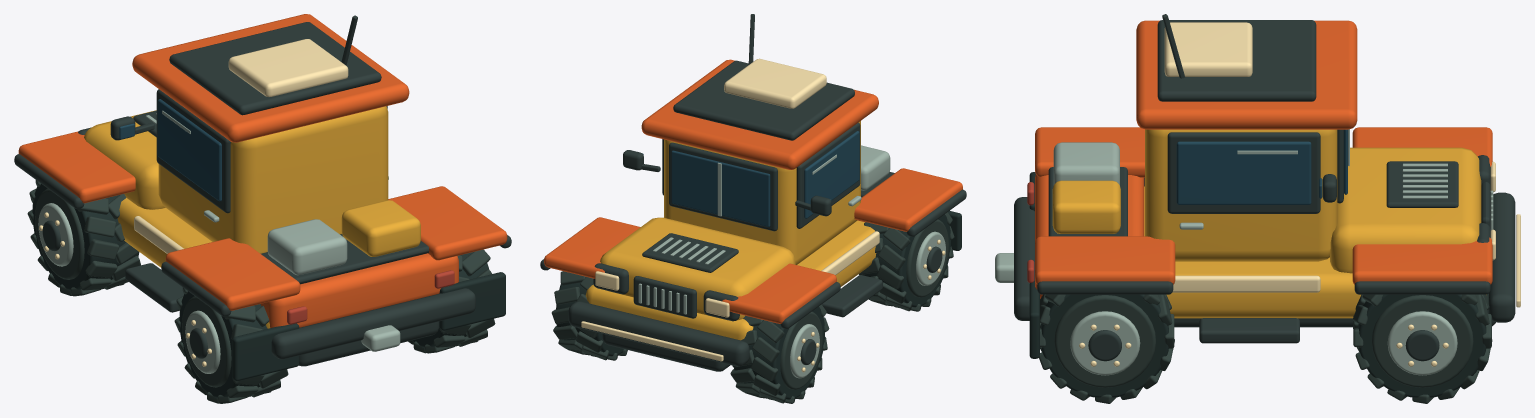
The model's file is SurveyRover.fbx.
3 renders of one model, left to right at view 1: azimuth 30°, elevation 25°; view 2: azimuth 150°, elevation 25°; view 3: azimuth 270°, elevation 25°, orthographic. The views are drawn at different scales.
Visible parts, largest first — view 1: Cab shell, Roof safety cap, Cab roof rack, Rear utility bed, Mudguard, Rear bumper, Mudguard.002, Mudguard.001, Survey radio housing, Side window, Safety case, Green survey box (+24 smaller); view 2: Short bonnet, Roof safety cap, Cab roof rack, Cab shell, Front windshield, Rocker body, Mudguard, Front bumper, Mudguard.001, Survey radio housing, Mudguard.003, Side window (+26 smaller); view 3: Cab shell, Roof safety cap, Short bonnet, Side window.001, Cab roof rack, Rocker body, Mudguard.002, Mudguard.003, Survey radio housing, Side glass gasket.001, Sidewall.003, Sidewall.002 (+24 smaller).
Part boxes in pixels (x1,y1,x2,y2): Cab shell: (158, 106, 388, 253); Roof safety cap: (132, 14, 409, 142); Cab roof rack: (169, 22, 381, 115); Rear utility bed: (260, 253, 458, 327); Mudguard: (165, 238, 300, 310); Rear bumper: (271, 288, 475, 359); Mudguard.002: (388, 186, 507, 260); Mudguard.001: (18, 131, 135, 203); Survey radio housing: (228, 39, 348, 96); Side window: (157, 99, 221, 201); Safety case: (341, 200, 420, 256); Green survey box: (267, 219, 347, 275); Short bonnet: (600, 217, 795, 320); Roof safety cap: (641, 59, 878, 169); Cab roof rack: (673, 60, 854, 140); Cab shell: (664, 121, 860, 264); Front windshield: (671, 150, 770, 226); Rocker body: (585, 220, 876, 340); Mudguard: (854, 168, 962, 231); Front bumper: (568, 301, 749, 366); Mudguard.001: (722, 263, 836, 323); Survey radio housing: (724, 58, 826, 108); Mudguard.003: (544, 217, 640, 278); Side window: (804, 131, 859, 218); Cab shell: (1145, 129, 1337, 261); Roof safety cap: (1136, 20, 1357, 129); Short bonnet: (1330, 147, 1481, 273); Side window.001: (1176, 141, 1311, 204); Cab roof rack: (1157, 20, 1316, 101); Rocker body: (1144, 186, 1486, 318); Mudguard.002: (1035, 236, 1175, 284); Mudguard.003: (1352, 237, 1492, 284); Survey radio housing: (1164, 22, 1252, 76); Side glass gasket.001: (1167, 132, 1320, 213); Sidewall.003: (1371, 295, 1473, 387); Sidewall.002: (1054, 295, 1155, 387).
Bounding box in the file's own units: 256 × 270 × 371.
